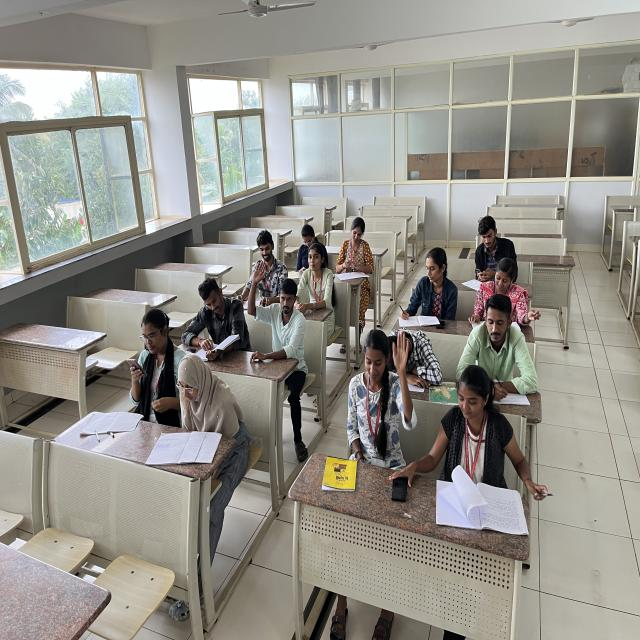Hand Rising: (350, 329, 414, 431), (249, 262, 306, 342)
Reading: (160, 352, 218, 461), (196, 279, 245, 359), (466, 271, 530, 332), (339, 219, 372, 279)
Sleeping: (386, 325, 443, 391)
Using Phone: (123, 308, 177, 381), (472, 216, 518, 281)
Writing: (456, 302, 545, 406), (397, 248, 448, 324)
